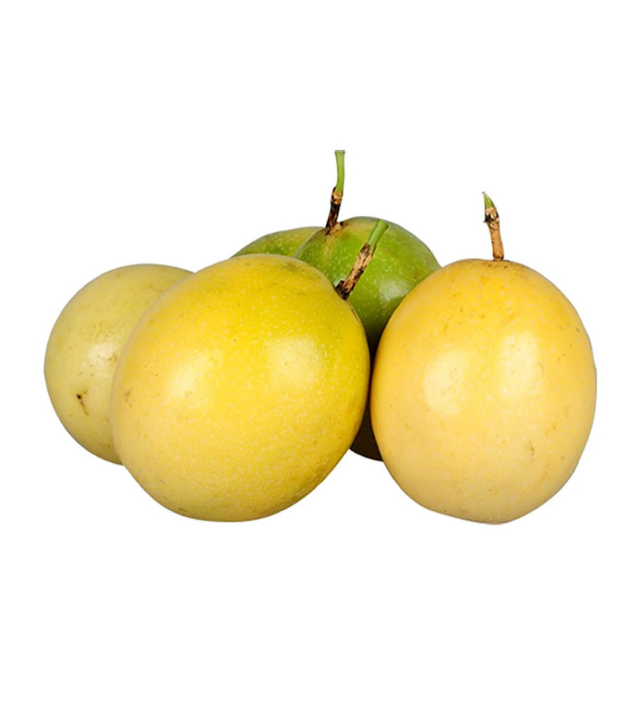maracuya: (115, 246, 373, 540), (368, 246, 606, 525), (40, 257, 205, 475)
